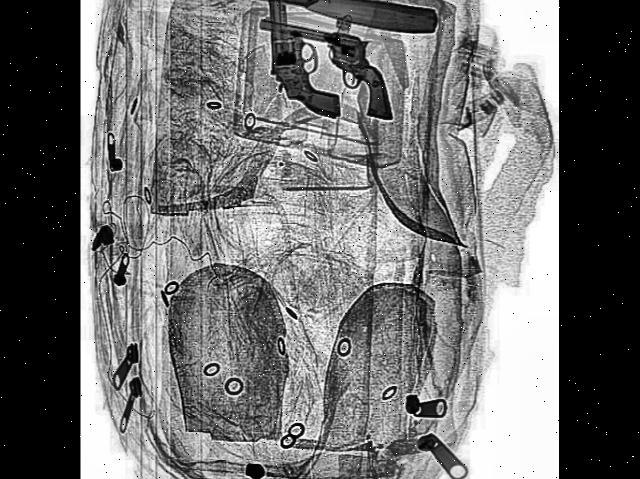Gun: (254, 13, 401, 118), (265, 0, 343, 127)
Knife: (154, 0, 440, 38)
